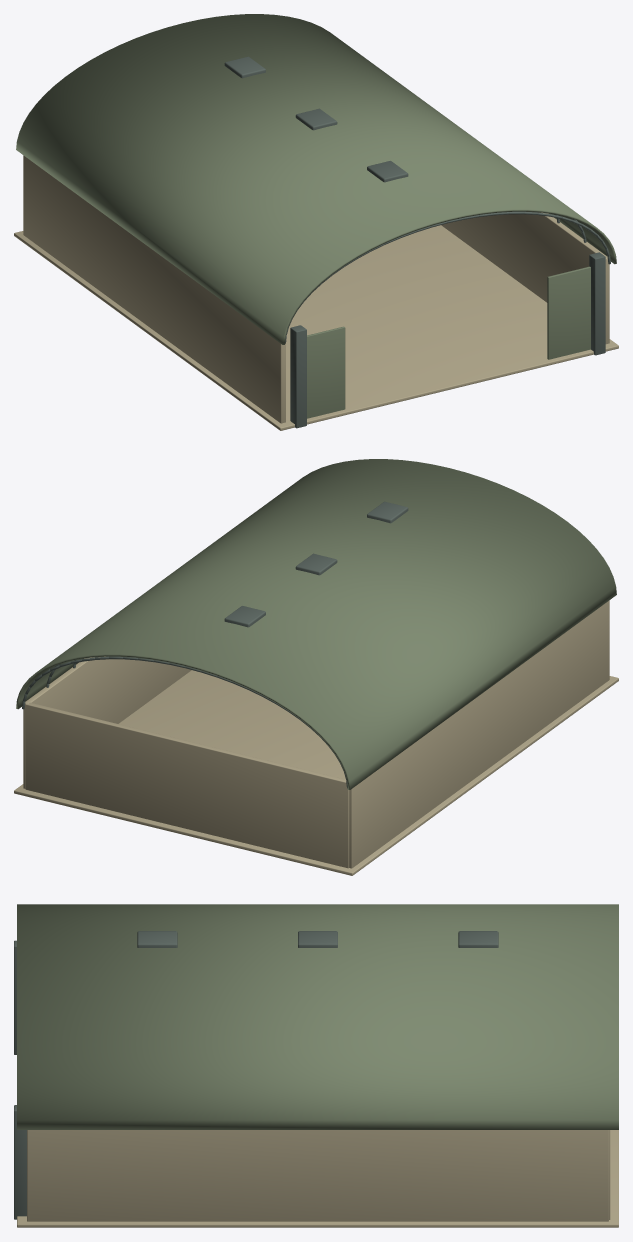
File: hangar.glb
3 renders of one model, top to bottom at view 1: azimuth 30°, elevation 25°; view 2: azimuth 150°, elevation 25°; view 3: azimuth 270°, elevation 25°, orthographic. The views are drawn at different scales.
Visible parts, largest first — view 1: Hangar_Field_olive, Hangar_Sand_armor, Hangar_Gun_steel; view 2: Hangar_Field_olive, Hangar_Sand_armor, Hangar_Gun_steel; view 3: Hangar_Field_olive, Hangar_Sand_armor, Hangar_Gun_steel.
Part boxes in pixels (x1,y1,x2,y2): Hangar_Field_olive: (16,14,616,418); Hangar_Sand_armor: (14,155,618,430); Hangar_Gun_steel: (224,56,610,428); Hangar_Field_olive: (16,459,616,789); Hangar_Sand_armor: (14,600,618,875); Hangar_Gun_steel: (22,501,408,788); Hangar_Field_olive: (17,904,618,1129); Hangar_Sand_armor: (17,1130,618,1227); Hangar_Gun_steel: (14,931,498,1219).
Bounding box in the file's own units: 22 × 10.85 × 30.15.
